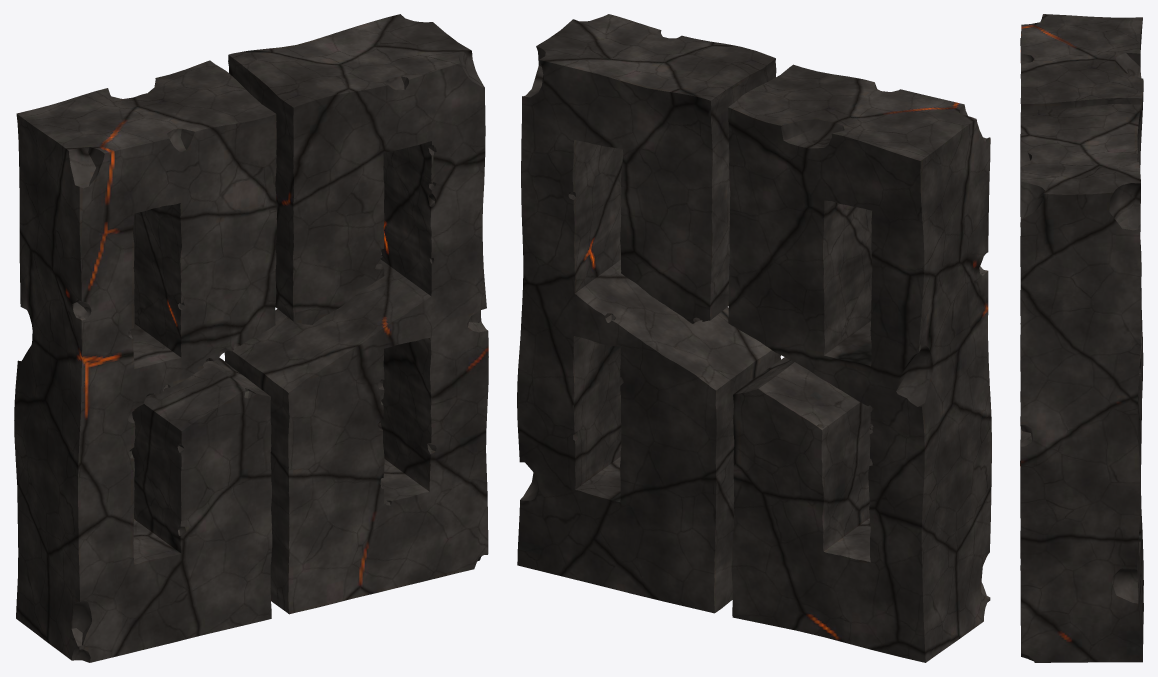
The model's file is hyperiux-monolith.glb.
3 views of the same model, side by side, from view 1: azimuth 30°, elevation 25°; view 2: azimuth 150°, elevation 25°; view 3: azimuth 270°, elevation 25° (orthographic). The views are drawn at different scales.
Parts seen in each view (by area): view 1: HyperiuxMonolith_Left, HyperiuxMonolith_Right; view 2: HyperiuxMonolith_Left, HyperiuxMonolith_Right; view 3: HyperiuxMonolith_Right, HyperiuxMonolith_Left.
Boxes of the visible parts, box(x1,y1,x2,y2) form: HyperiuxMonolith_Left: box(14, 60, 276, 662); HyperiuxMonolith_Right: box(224, 14, 488, 614); HyperiuxMonolith_Left: box(728, 64, 991, 662); HyperiuxMonolith_Right: box(517, 14, 780, 613); HyperiuxMonolith_Right: box(1020, 104, 1143, 662); HyperiuxMonolith_Left: box(1020, 14, 1143, 558).
Size of the model in its own units: 10.48 by 12.46 by 2.96.
1 material, 1 textured.
